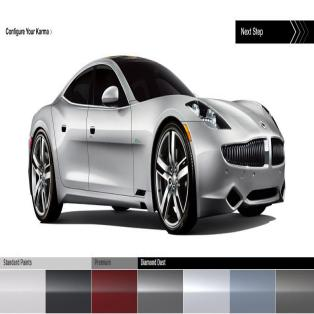Auto: (28, 53, 287, 237)
